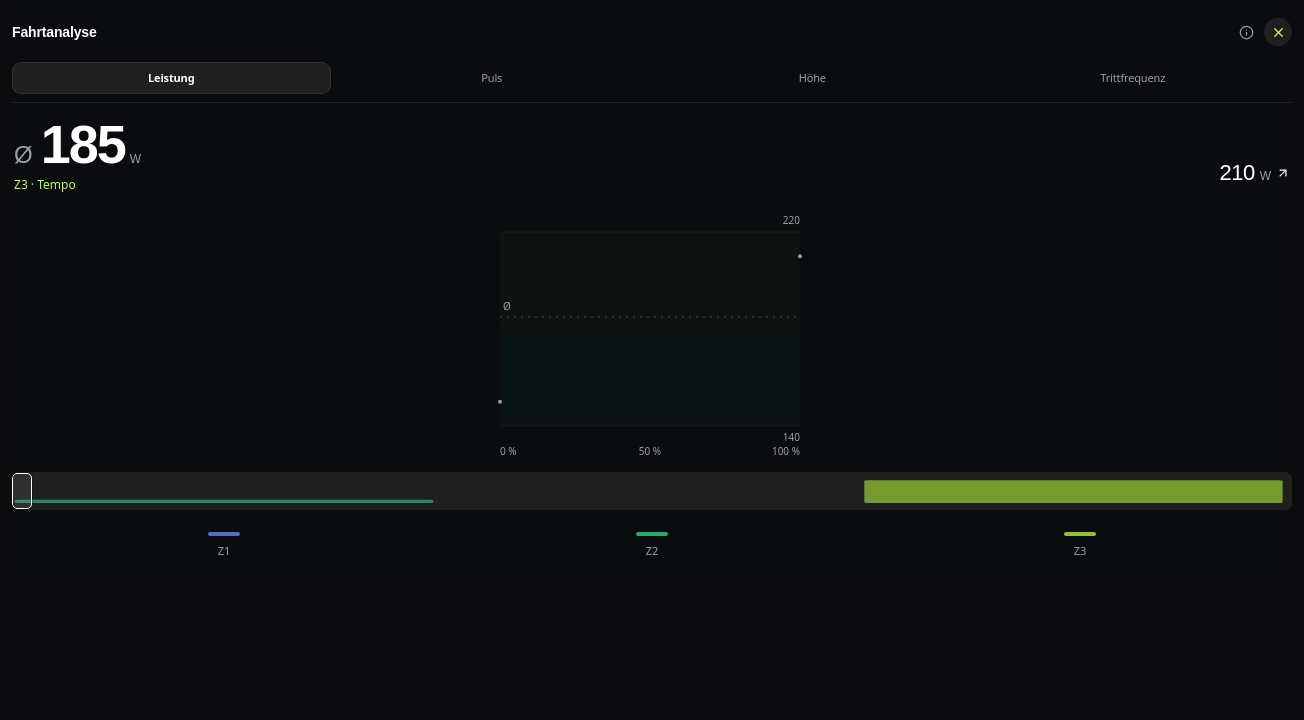
uses supplied rider zones, filters their ranges, and clears the filter on metric change
Expected: the text "FTP zur Fahrt · 240 W" is not shown
Click the button named "Über diese Daten". click: (1246, 32)
box: [1232, 18, 1260, 46]
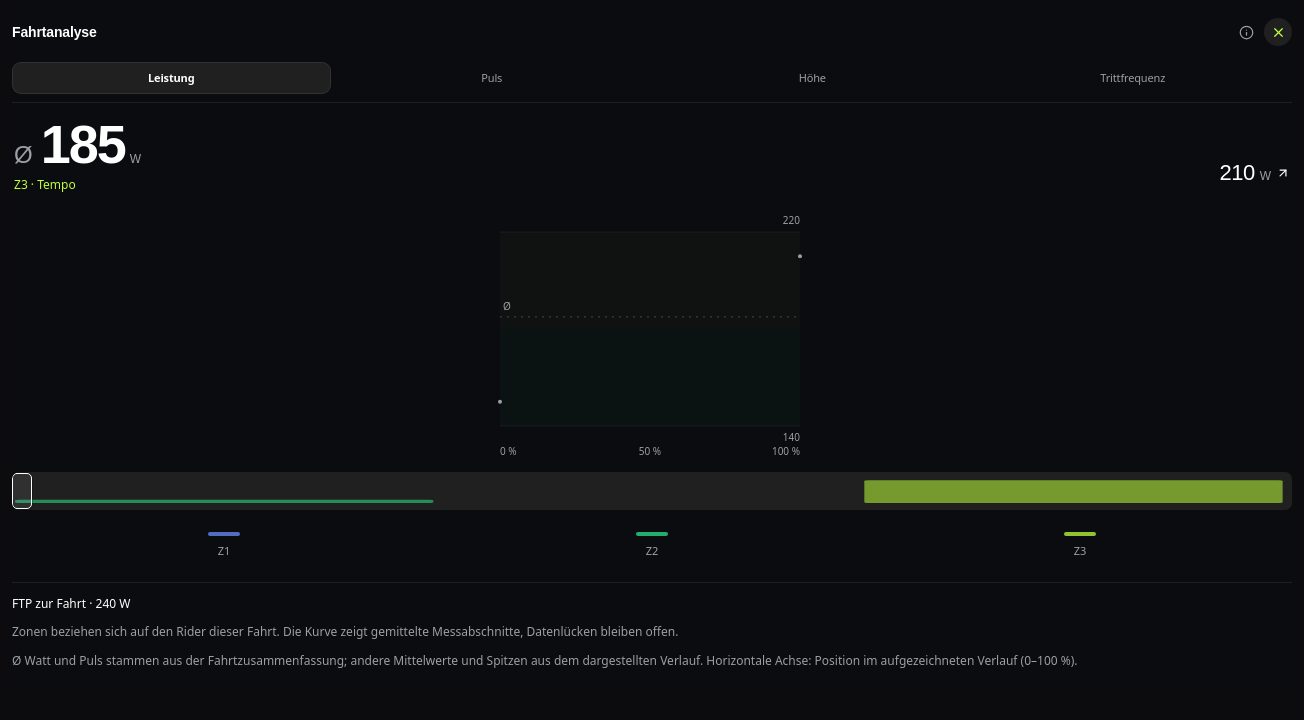
Now the text "FTP zur Fahrt · 240 W" is shown, box [12, 595, 130, 612]
Click the button named "Über diese Daten". click: (1246, 32)
box: [1232, 18, 1260, 46]
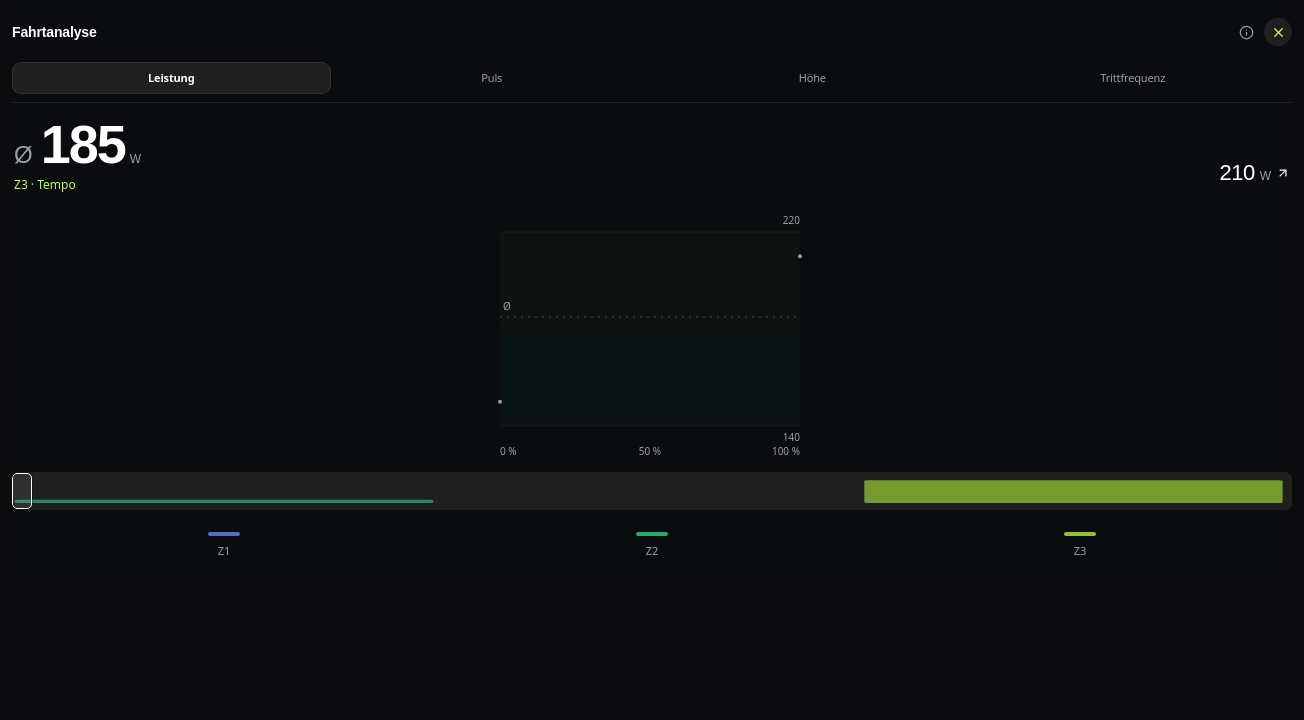
Click the button named "Zone 2: Grundlage". click: (652, 546)
box: [440, 526, 864, 566]
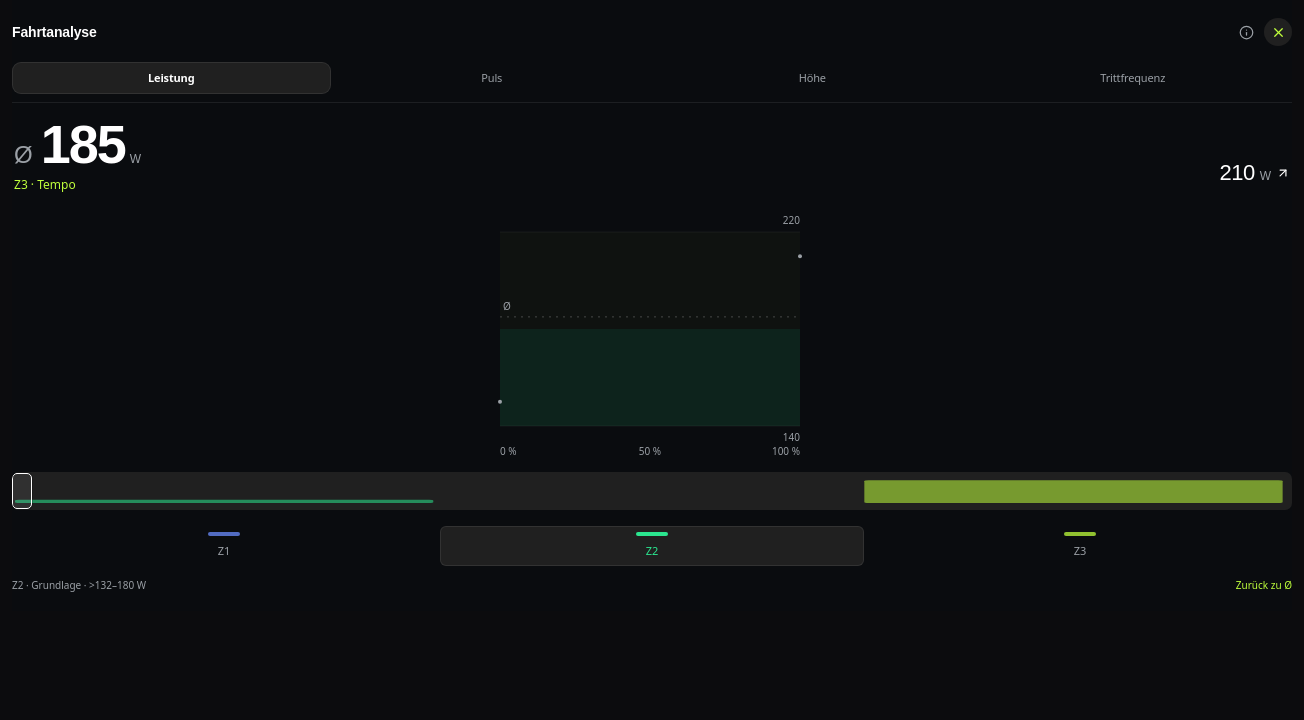
Now the text "Z2 · Grundlage · >132–180 W" is shown, box [12, 578, 146, 593]
Click the button "Puls". click: (492, 78)
box: [332, 62, 651, 94]
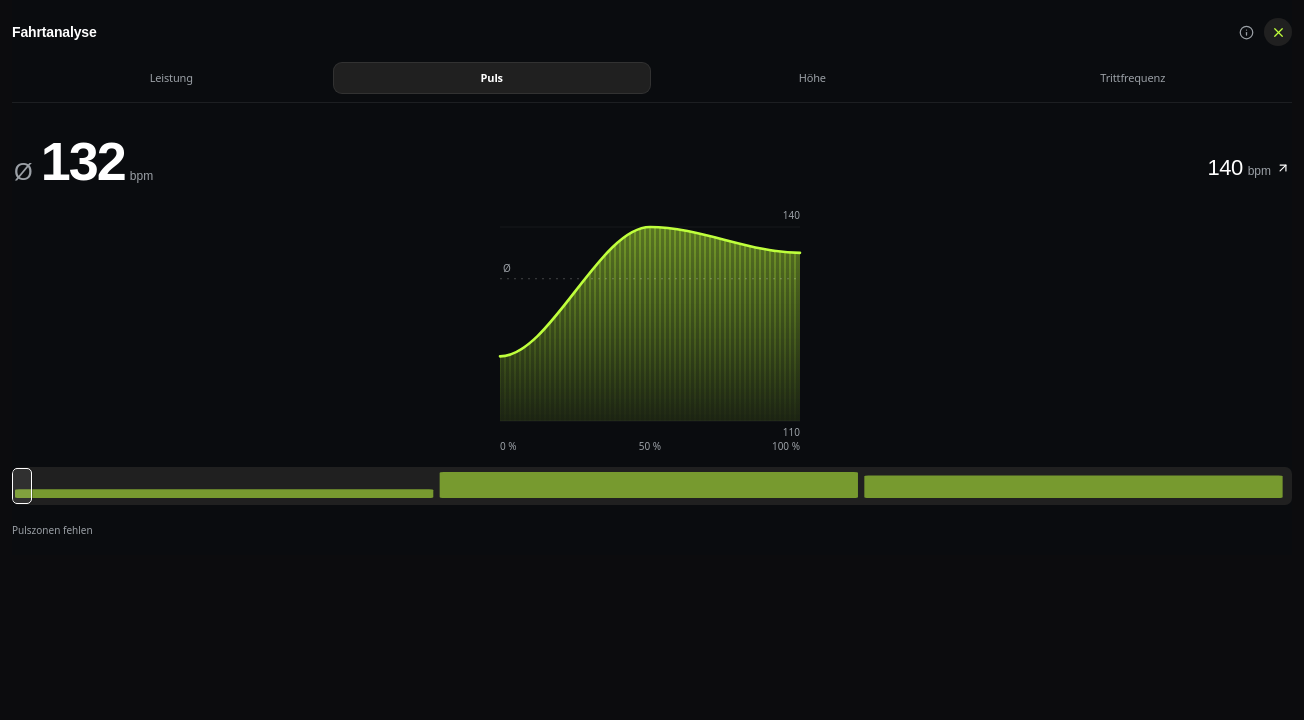
Now the text "Pulszonen fehlen" is shown, box [12, 522, 93, 538]
